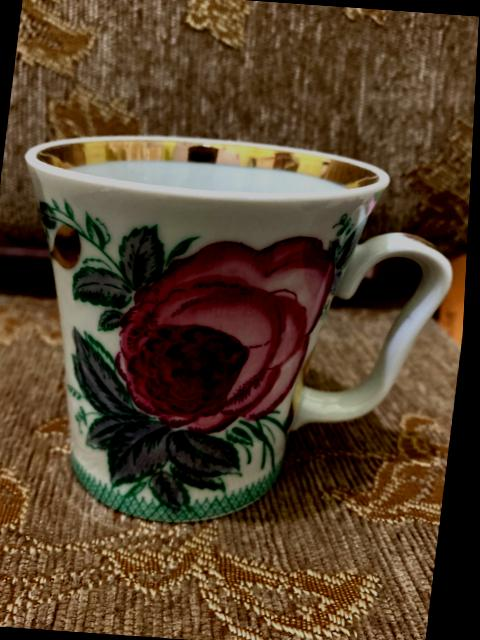Cup: (25, 137, 450, 521)
